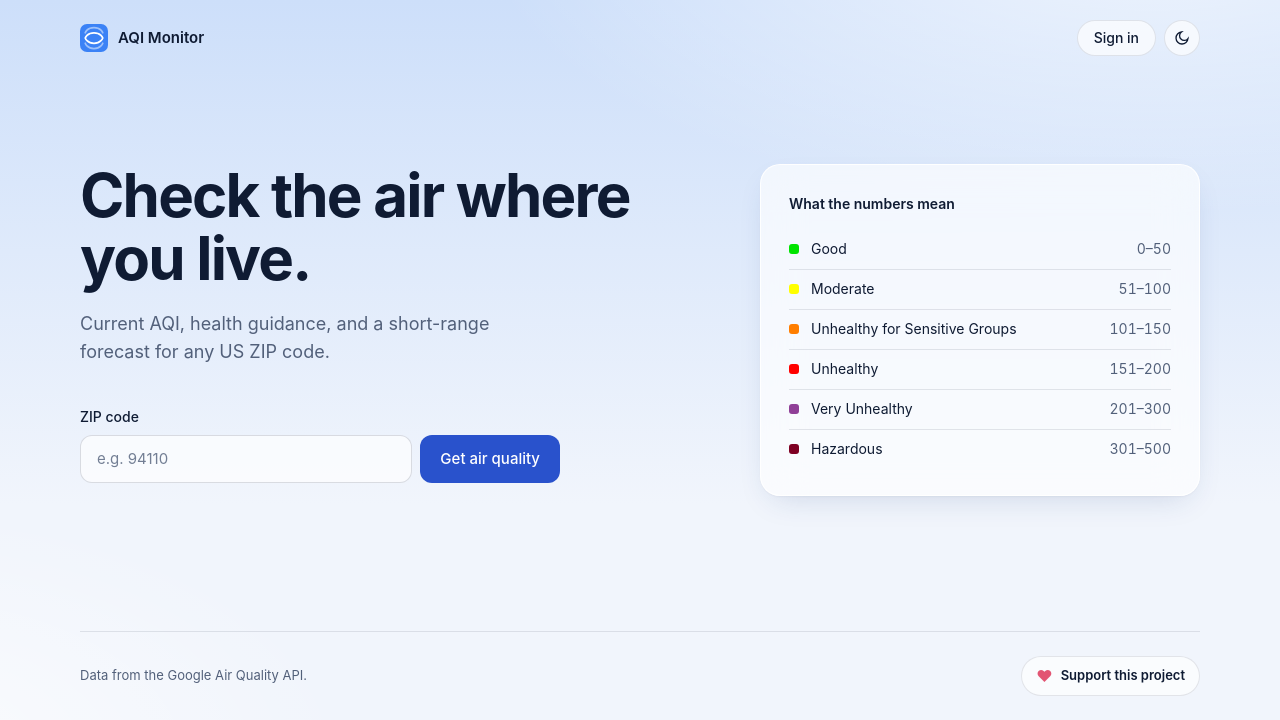
Test: App accessibility › marks the ZIP input invalid only for format errors
Type "123" into the field labelled "ZIP code" at (246, 459), box [80,435,412,483]
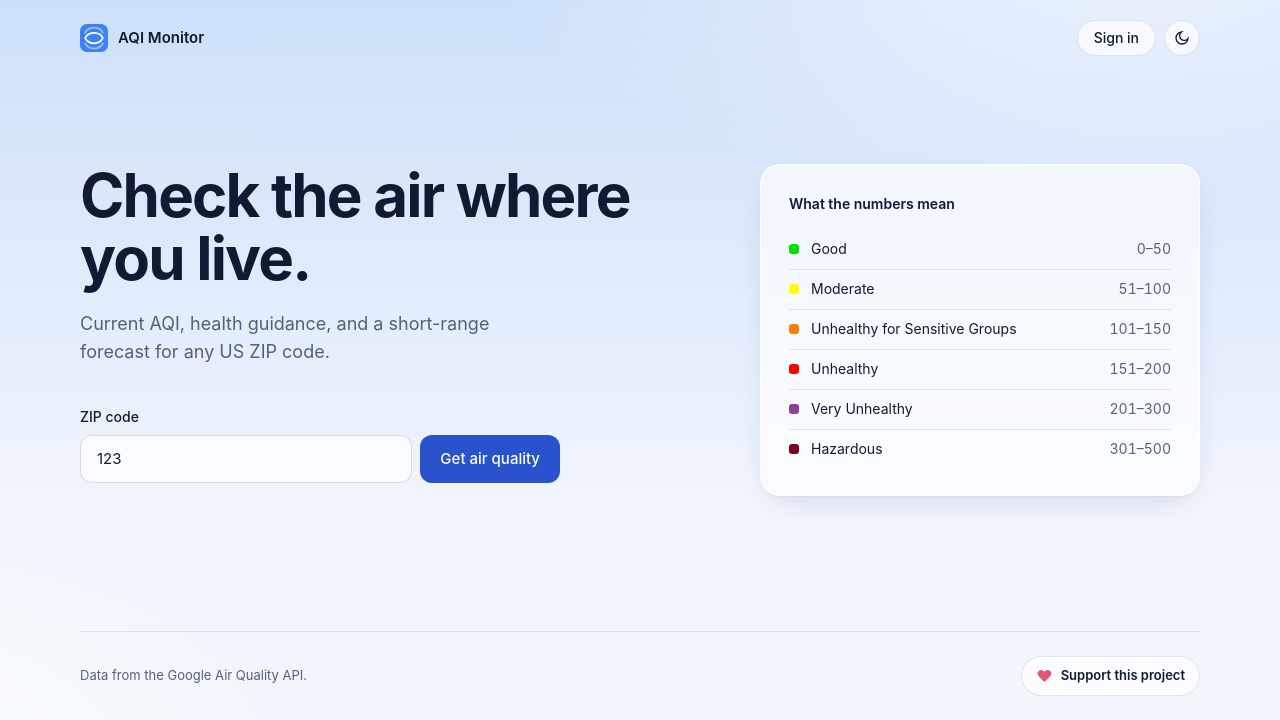
Click the button "Get air quality" at (490, 459), box [420,435,560,483]
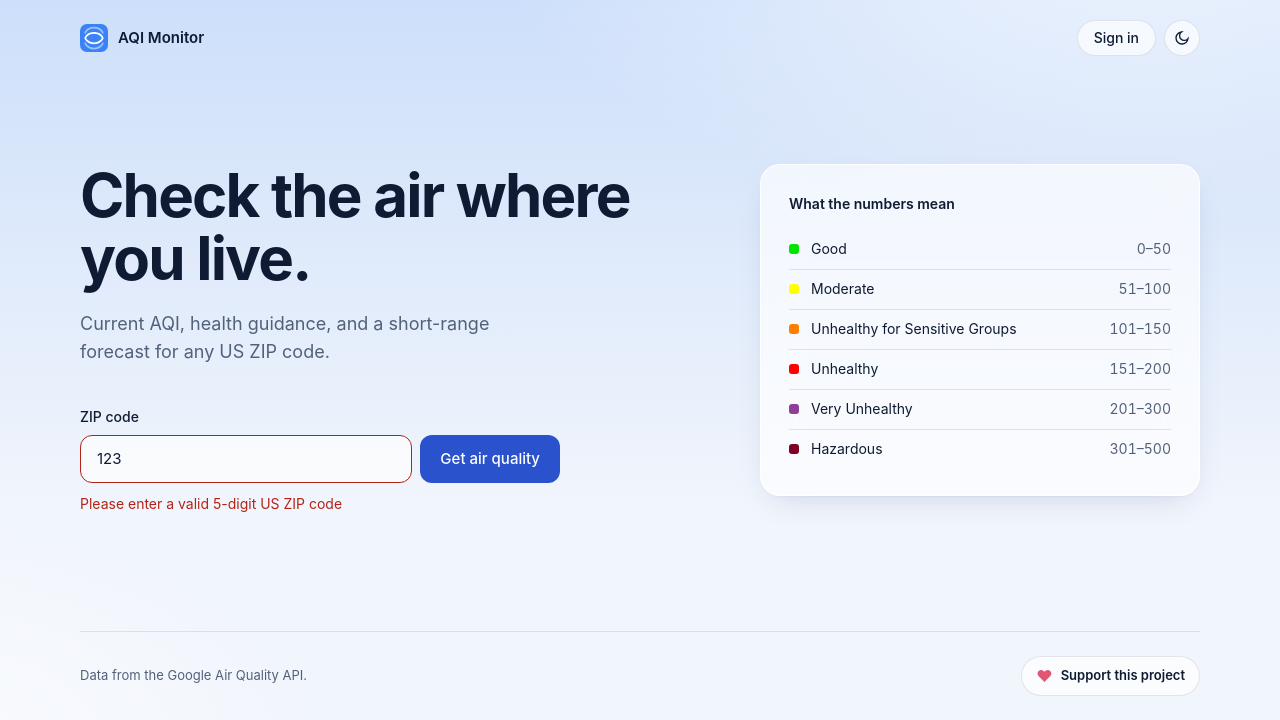
Expected: the message shows "valid 5-digit", [80,495,342,512]
Replace the text in the field labelled "ZIP code" with "12345" at (246, 459), box [80,435,412,483]
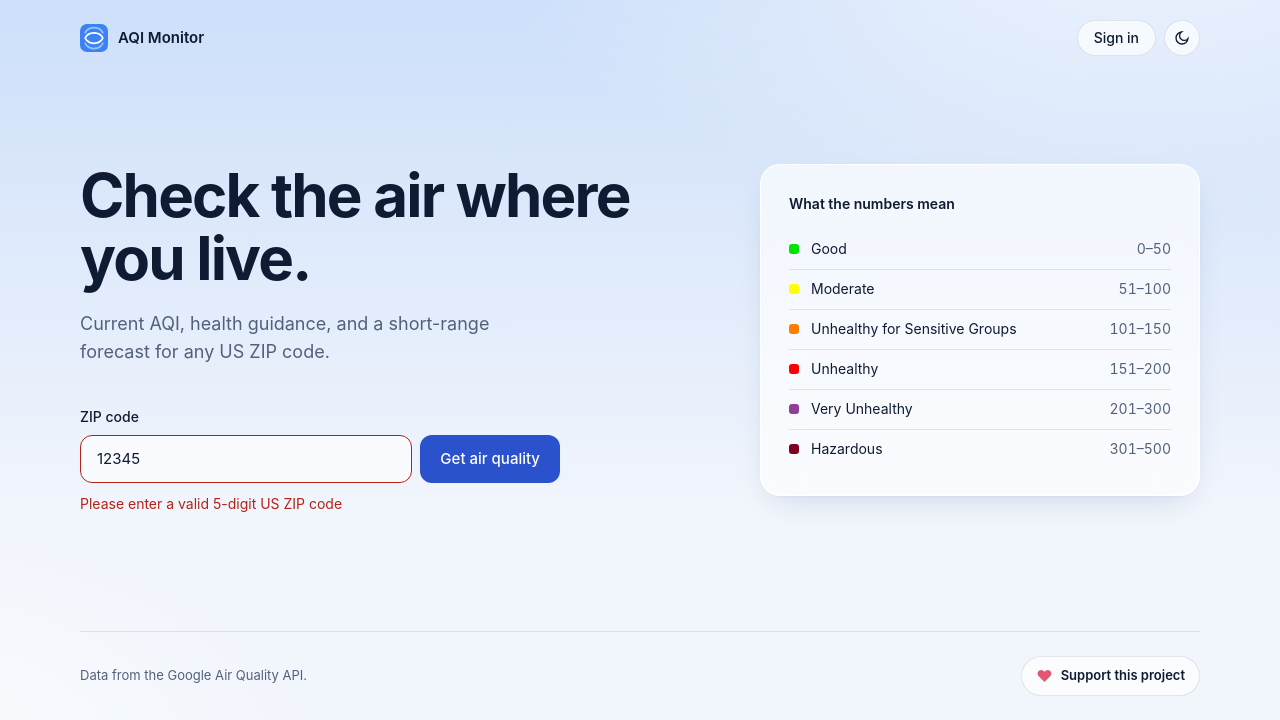
Click the button "Get air quality" at (490, 459), box [420,435,560,483]
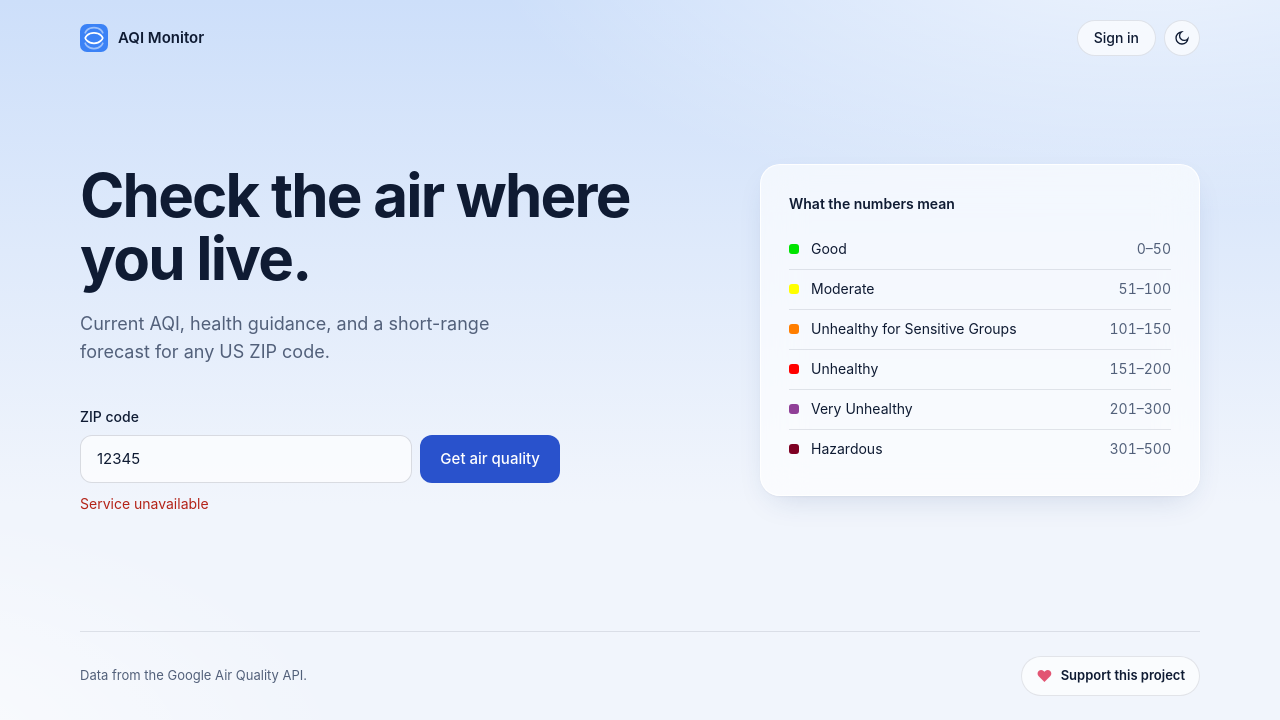
Expected: the text "Service unavailable" is shown, [80,495,209,512]
